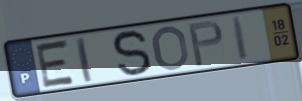E: (34, 37, 78, 90)
I: (73, 35, 95, 85), (230, 14, 251, 63)
O: (151, 24, 192, 72)
P: (186, 18, 225, 69)
S: (110, 28, 154, 80)
